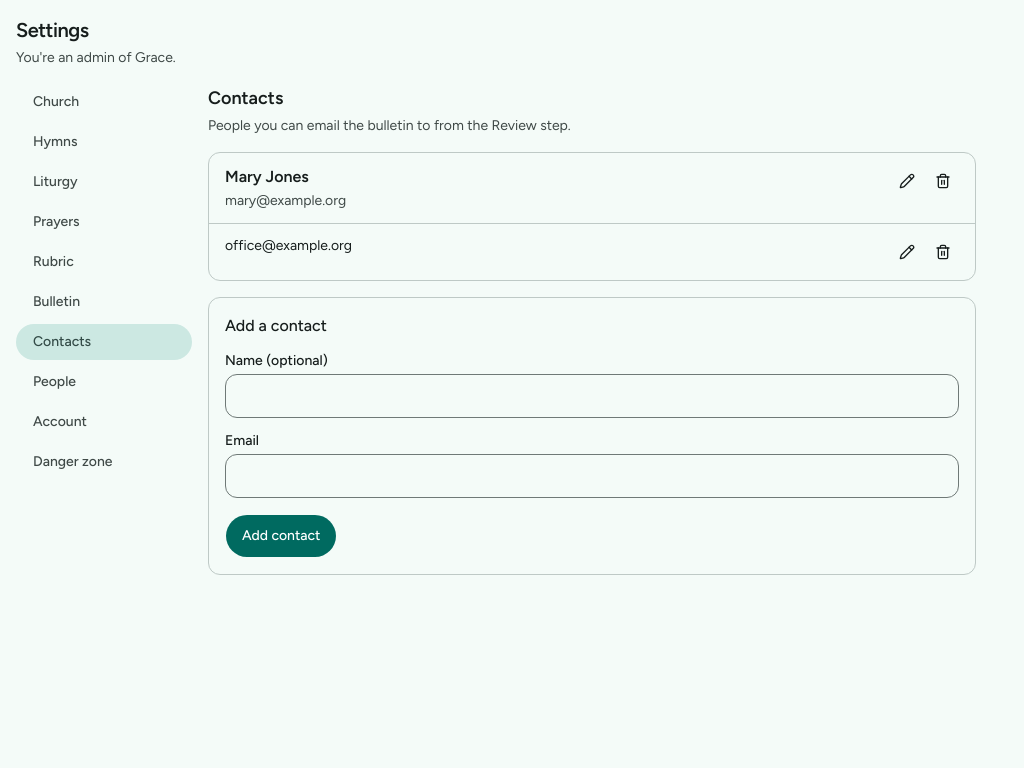
Test: Settings → Contacts (slice 5b-1) › shows an edit's 409 in the dialog, and Cancel leaves the contact as it was
Click the button named "Edit Mary Jones". click: (907, 181)
box: 891,165 -> 923,197
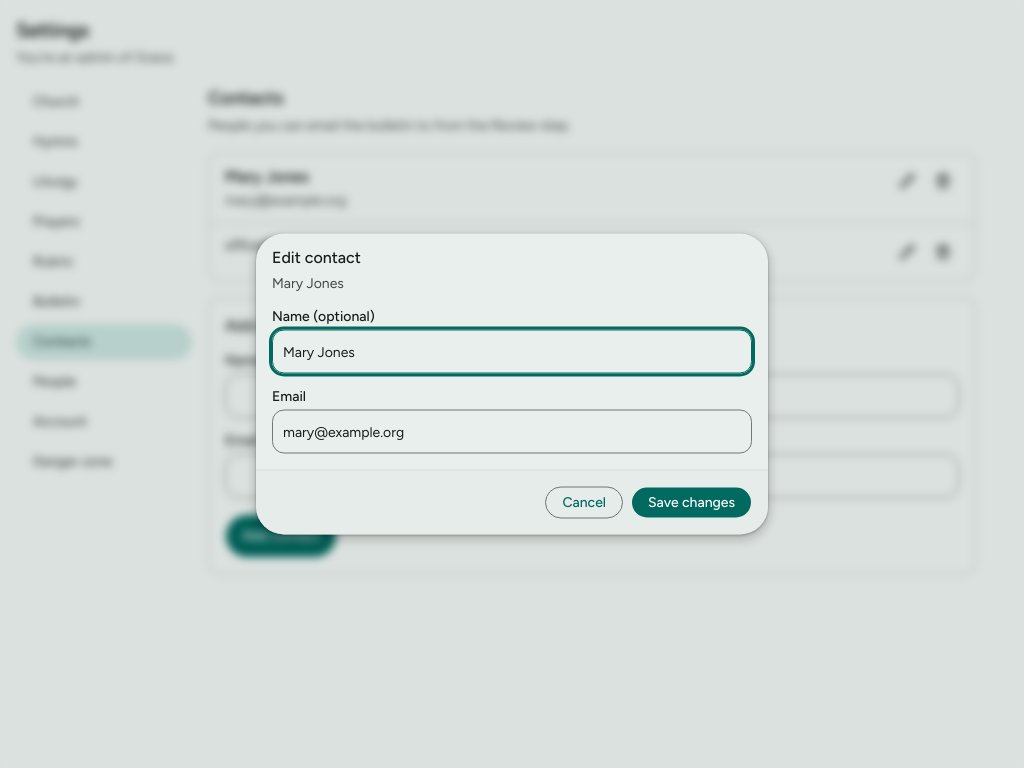
Replace the text in the field labelled "Email" with "office@example.org". click: (512, 432)
box: 272,410 -> 752,454
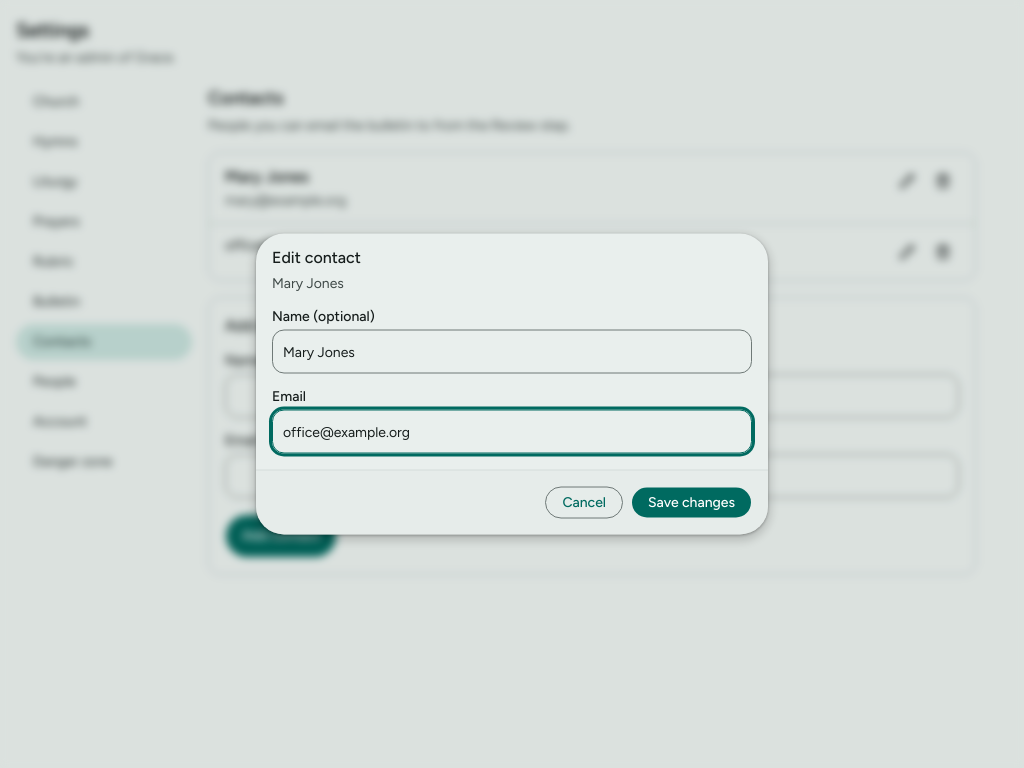
Click the button "Save changes". click: (692, 502)
box: 631,486 -> 752,518
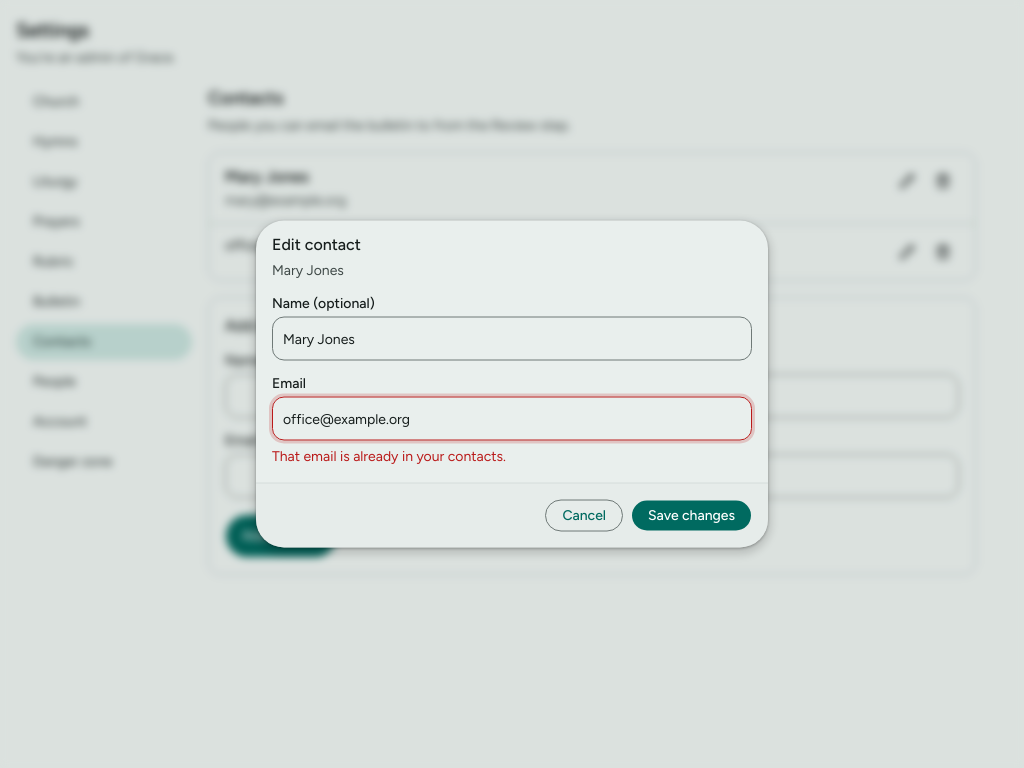
Check: the text "That email is already in your contacts." is shown, box 272,448 -> 506,464
Click the button "Cancel". click: (584, 516)
box: 545,500 -> 623,532
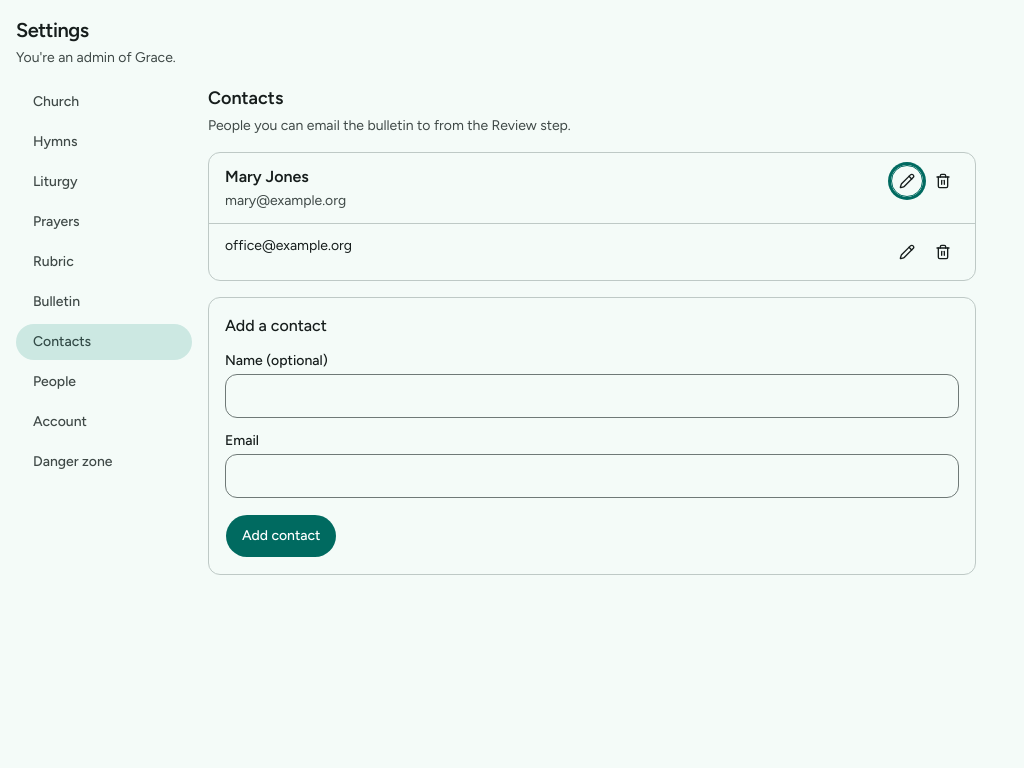
Check: the list item "Mary Jones mary@example.org" is shown, box 209,153 -> 975,224
Check: the dialog is gone
